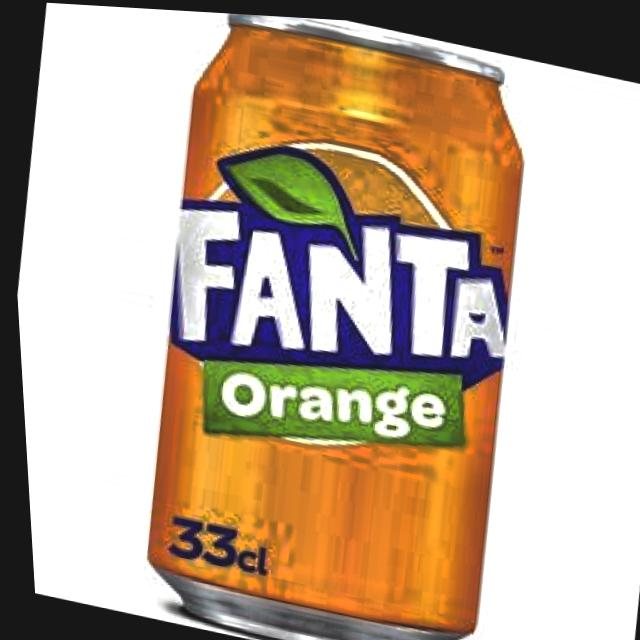Cans: (97, 5, 596, 640)
